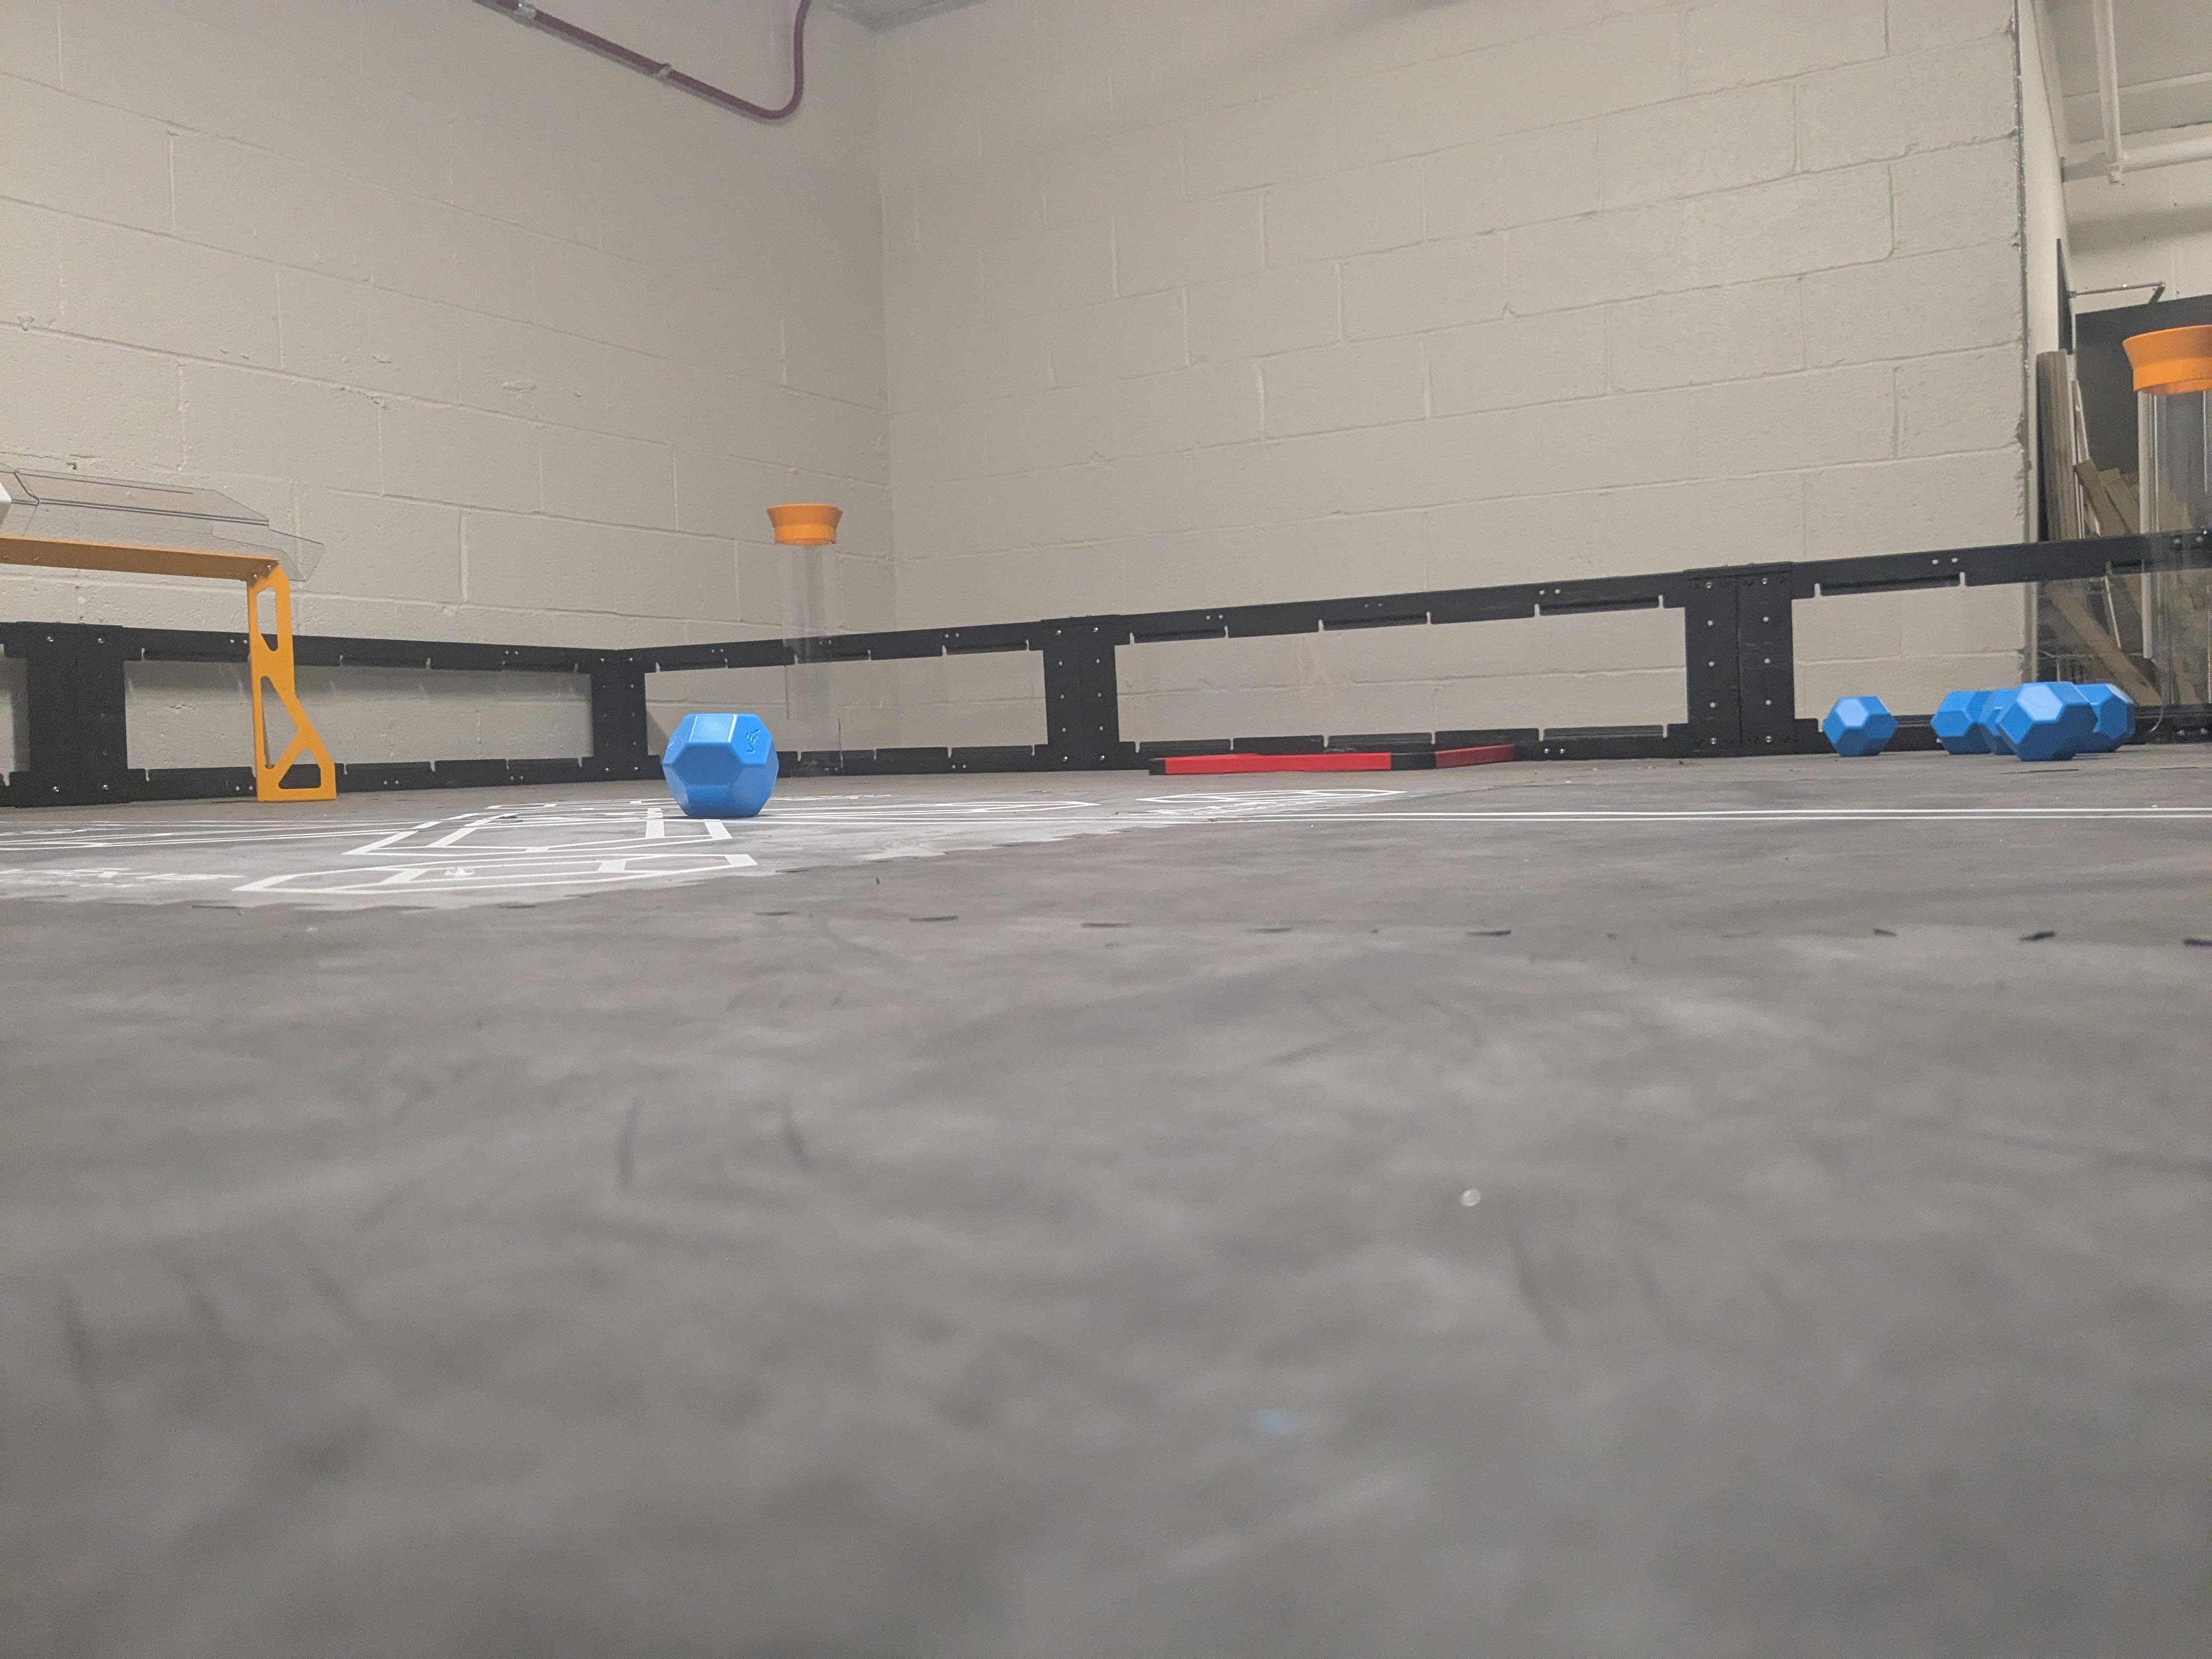Vex-Pieces-BLUE: (1935, 681, 2135, 756), (662, 713, 773, 816), (1822, 695, 1895, 756)
